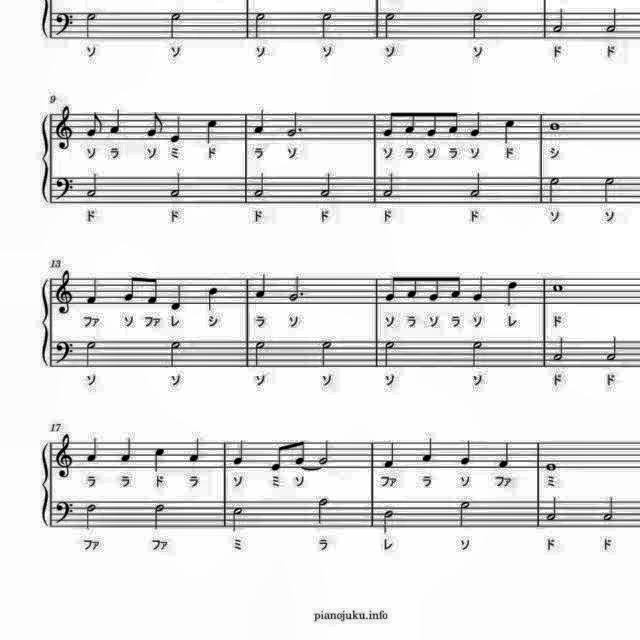Bass-clef: (54, 10, 78, 40), (54, 338, 78, 367), (54, 500, 78, 528), (54, 174, 78, 202)
Eighth-note: (142, 110, 166, 140), (84, 108, 106, 138), (268, 440, 288, 472), (122, 272, 140, 304), (383, 272, 401, 304), (426, 271, 442, 305), (406, 270, 422, 302), (424, 108, 440, 140), (378, 108, 394, 140), (144, 274, 160, 306), (290, 437, 306, 467), (446, 107, 462, 137), (403, 109, 419, 138), (450, 271, 464, 301)
Full-note: (551, 280, 567, 294), (548, 119, 564, 133), (544, 460, 560, 472)
Half-dot: (283, 108, 305, 140), (286, 273, 304, 303)
Half-note: (604, 334, 624, 366), (167, 338, 186, 370), (167, 10, 186, 42), (456, 498, 474, 530), (467, 337, 485, 369), (316, 495, 334, 527), (600, 172, 618, 204), (81, 501, 99, 533), (319, 338, 337, 370), (467, 10, 485, 42), (152, 501, 170, 533), (544, 174, 562, 206), (319, 8, 337, 40), (600, 494, 618, 526), (85, 169, 103, 199), (466, 169, 484, 199), (168, 169, 186, 199), (551, 334, 569, 364), (251, 169, 269, 199), (230, 505, 248, 535), (603, 6, 621, 36), (84, 336, 100, 369), (82, 8, 98, 40), (252, 338, 268, 370), (382, 10, 398, 42), (252, 10, 268, 42), (543, 496, 561, 524), (382, 338, 398, 369), (316, 437, 332, 467), (382, 170, 398, 198), (318, 170, 334, 198), (552, 8, 568, 36), (378, 506, 394, 534)
Quarter-note: (85, 274, 104, 306), (168, 112, 186, 144), (503, 276, 521, 308), (119, 434, 137, 466), (185, 434, 203, 466), (250, 106, 268, 138), (168, 280, 186, 312), (495, 440, 513, 472), (106, 105, 124, 136), (502, 117, 520, 147), (419, 432, 436, 463), (86, 434, 102, 466), (382, 438, 398, 470), (232, 436, 248, 468), (458, 436, 474, 468), (472, 272, 488, 304), (153, 443, 170, 473), (204, 286, 222, 314), (253, 271, 269, 301), (467, 109, 483, 139), (203, 118, 220, 146)
Treble-clef: (54, 432, 78, 482), (54, 268, 78, 316), (54, 104, 76, 154)
